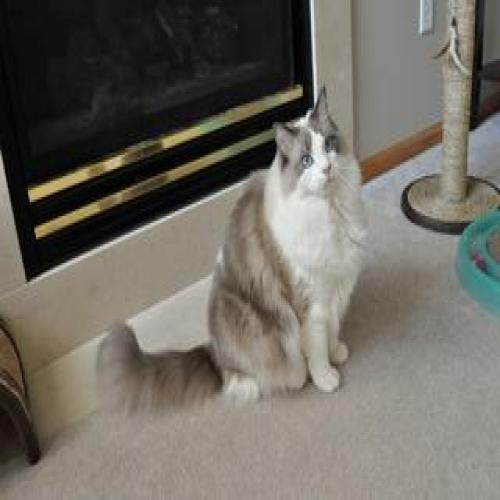ragdoll: (266, 85, 352, 214)
